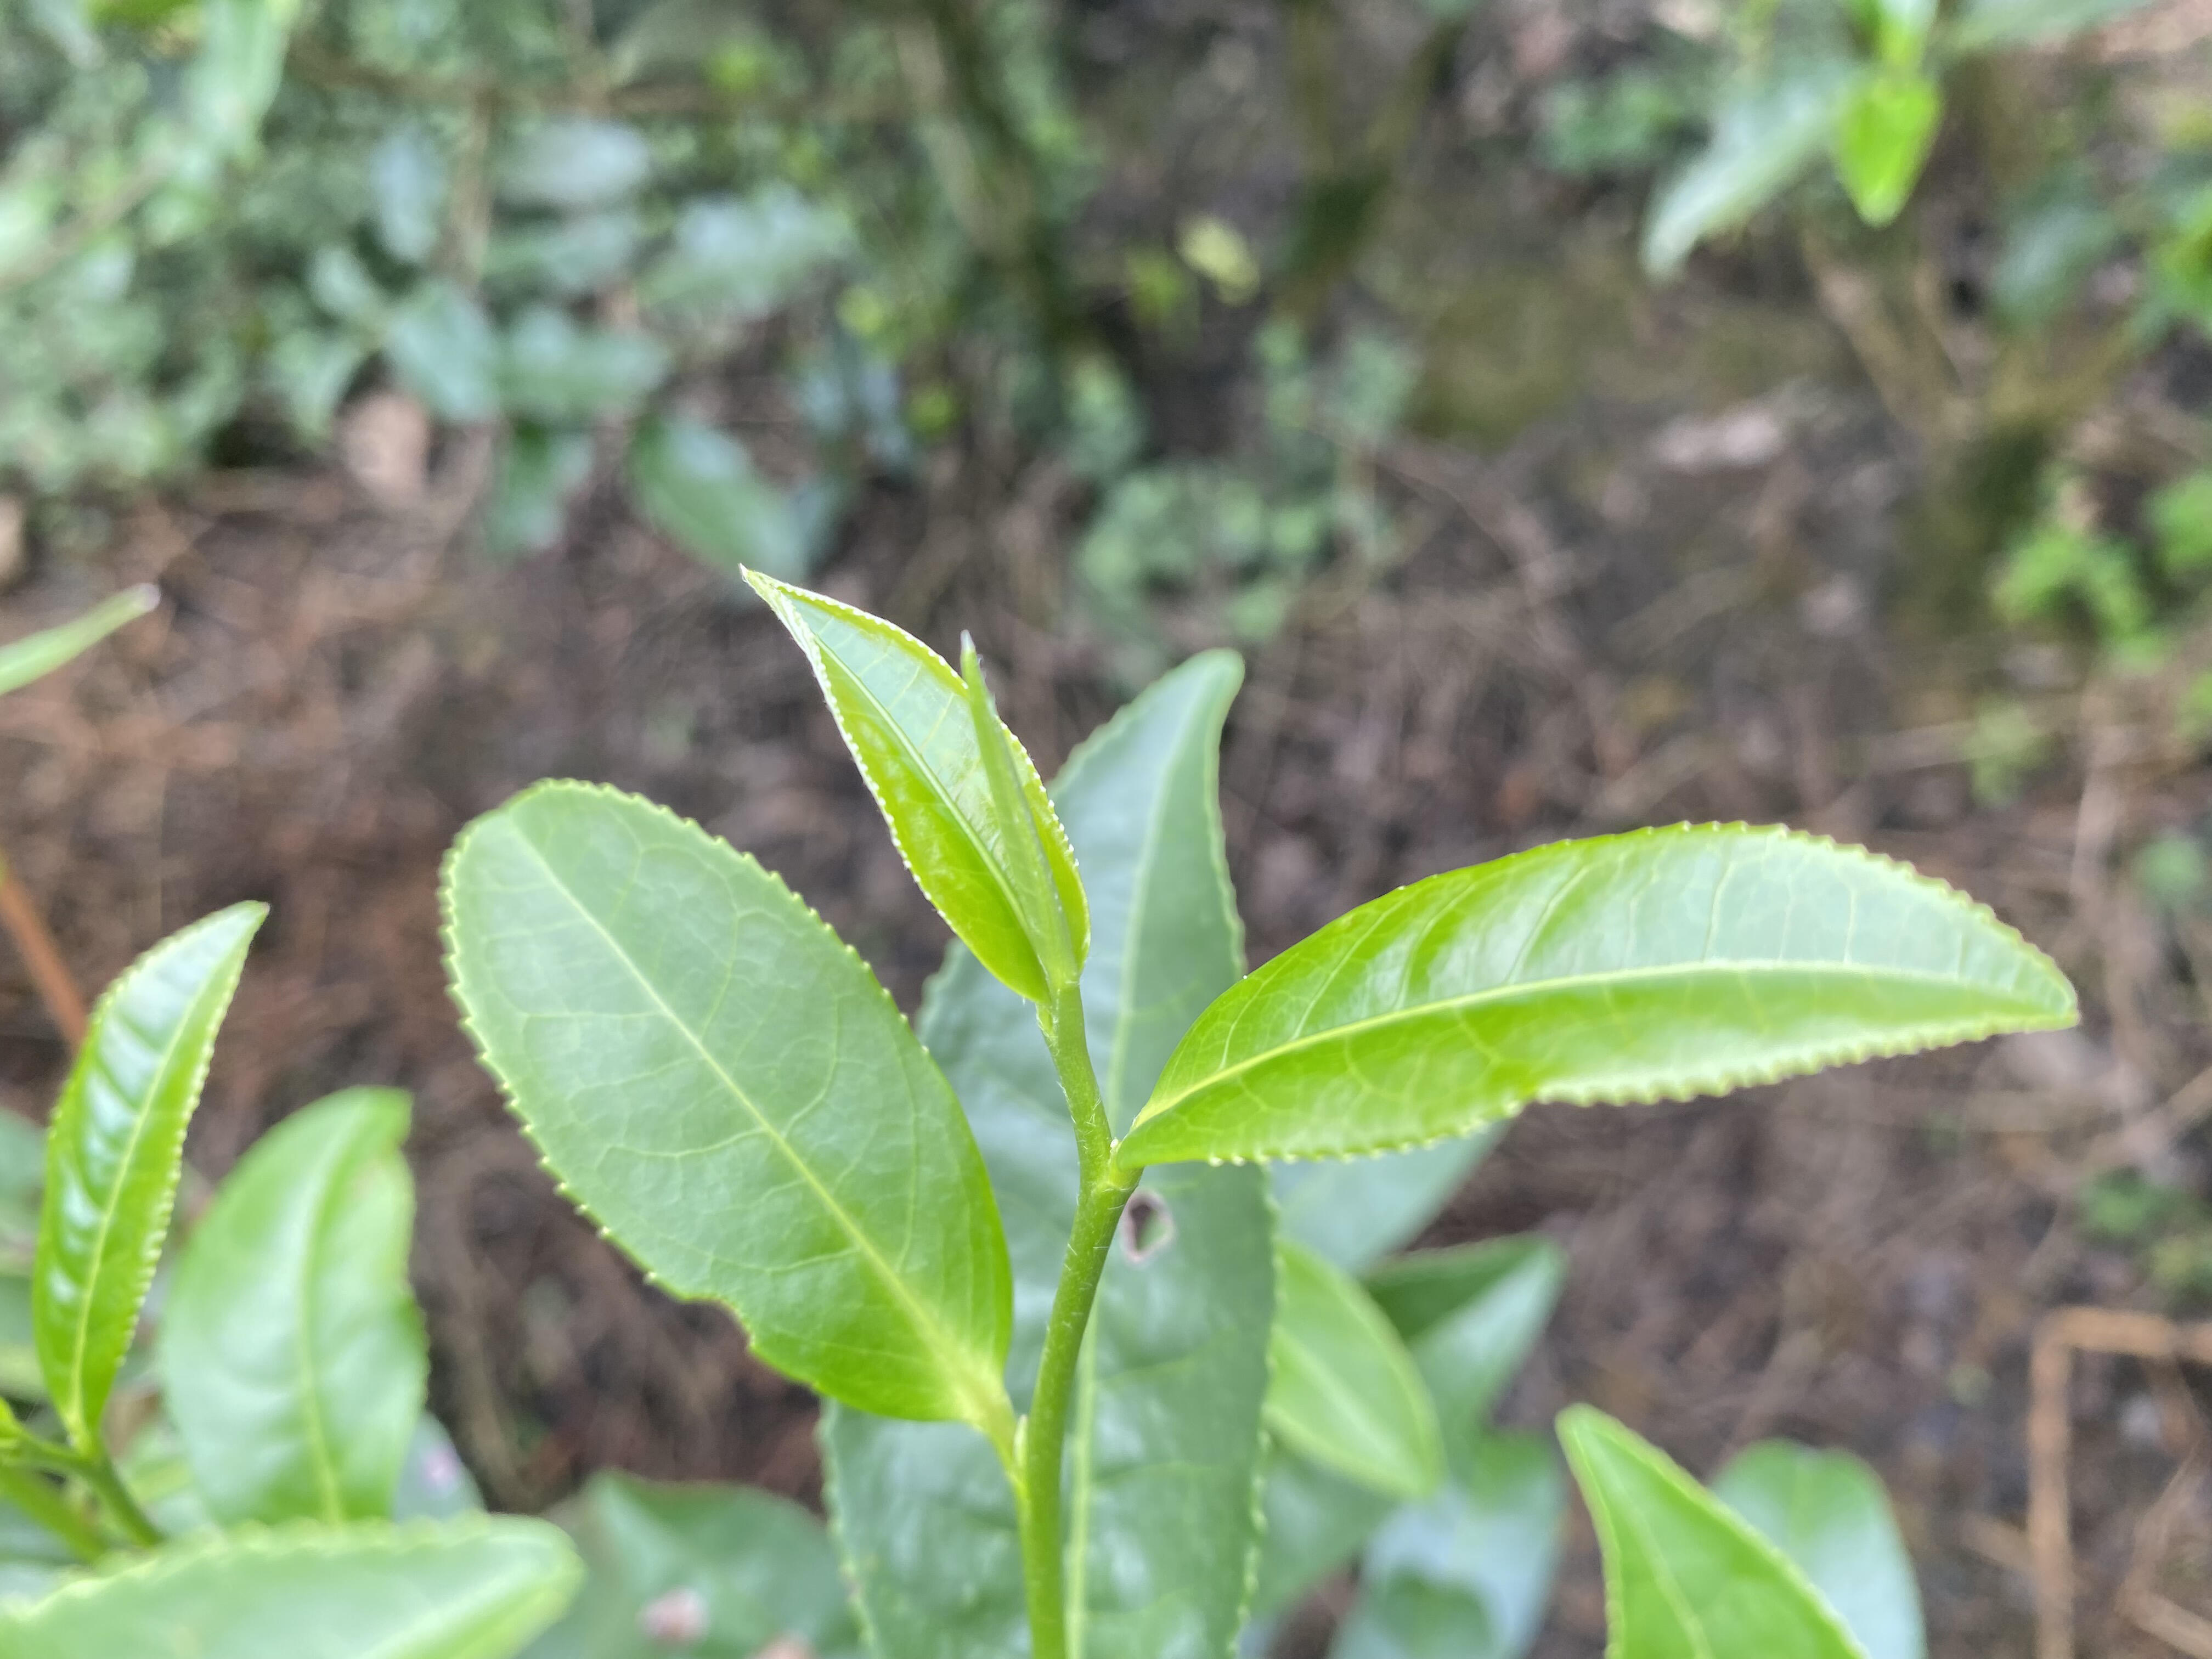chihuo_low: (808, 645, 1280, 1659), (439, 775, 1017, 1425)
healthy: (1118, 816, 2085, 1171), (737, 563, 1090, 999), (24, 901, 279, 1445)
